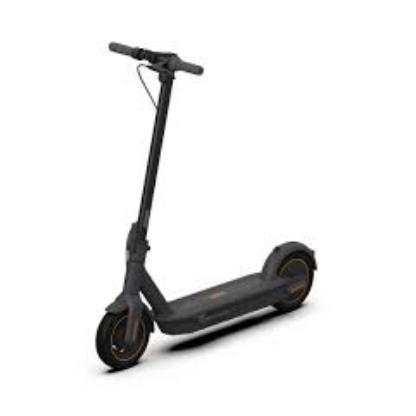bike: (93, 47, 318, 372)
car: (94, 44, 318, 372)
